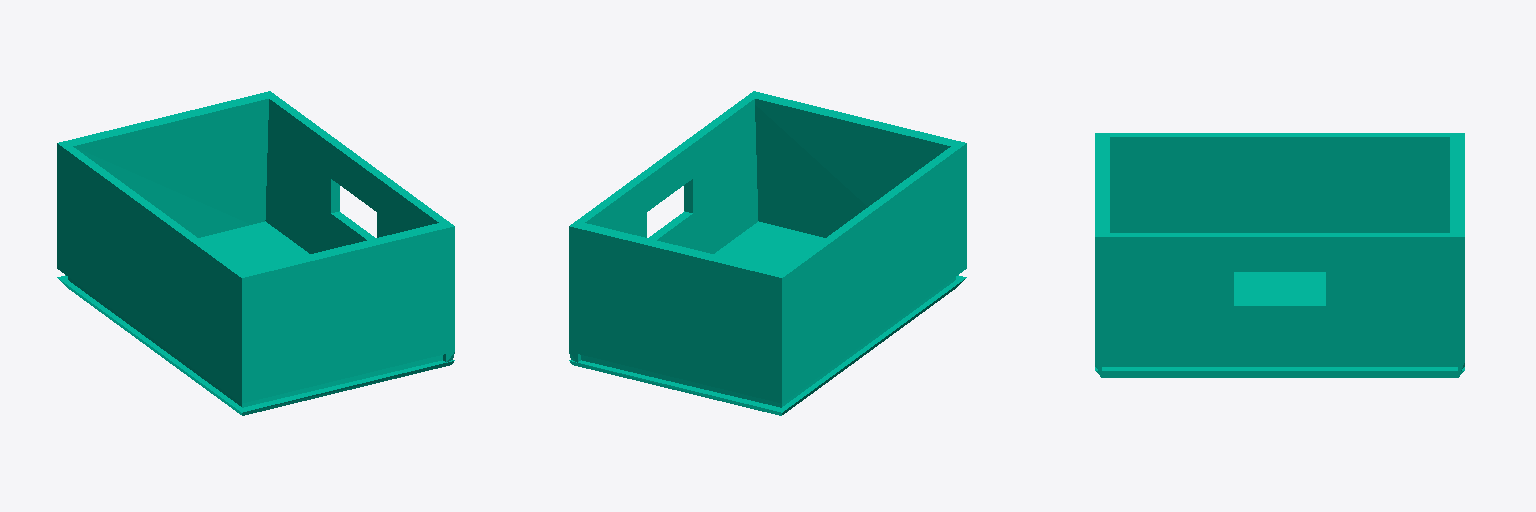
File: provaTot.obj
The picture shows the model from 3 angles: view 1: azimuth 30°, elevation 25°; view 2: azimuth 150°, elevation 25°; view 3: azimuth 270°, elevation 25°; orthographic projection.
Visible parts, largest first — view 1: Plane; view 2: Plane; view 3: Plane.
Boxes of the visible parts, <box> form: Plane: <box>57,91,454,415</box>; Plane: <box>569,91,966,415</box>; Plane: <box>1095,133,1464,377</box>.
Size of the model in its own units: 8 by 5.12 by 12.